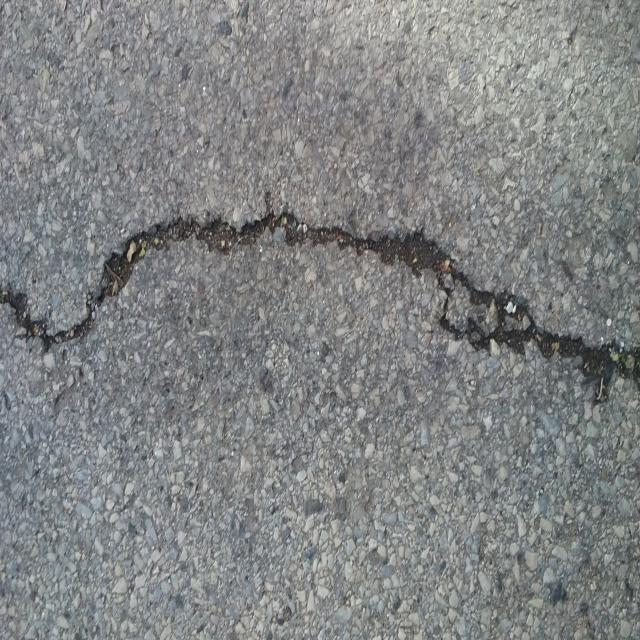Crack: (0, 208, 640, 416)
